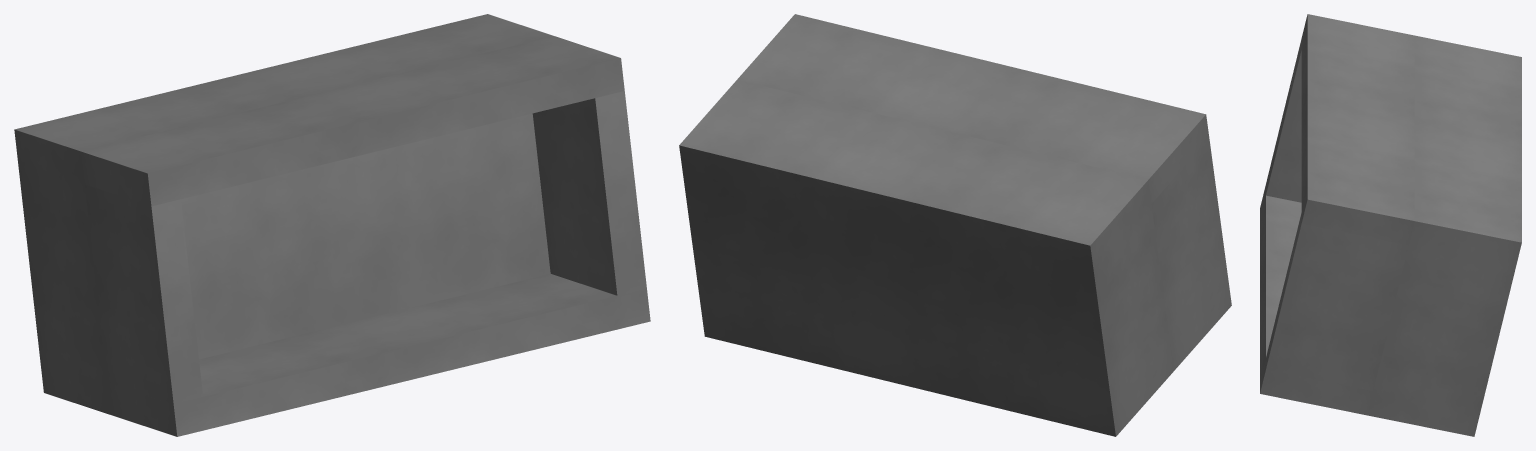
Rendered from dc_metro_arch_a2.obj.
3 views of the same model, side by side, from view 1: azimuth 30°, elevation 25°; view 2: azimuth 150°, elevation 25°; view 3: azimuth 270°, elevation 25° (orthographic). The views are drawn at different scales.
Visible parts, largest first — view 1: part2; view 2: part2; view 3: part2.
Part boxes in pixels (bbox=[...]): part2: bbox=[14, 14, 650, 436]; part2: bbox=[679, 14, 1231, 436]; part2: bbox=[1260, 14, 1521, 436].
Bounding box in the file's own units: 2 × 1.19 × 1.19.
1 material, 1 textured.
